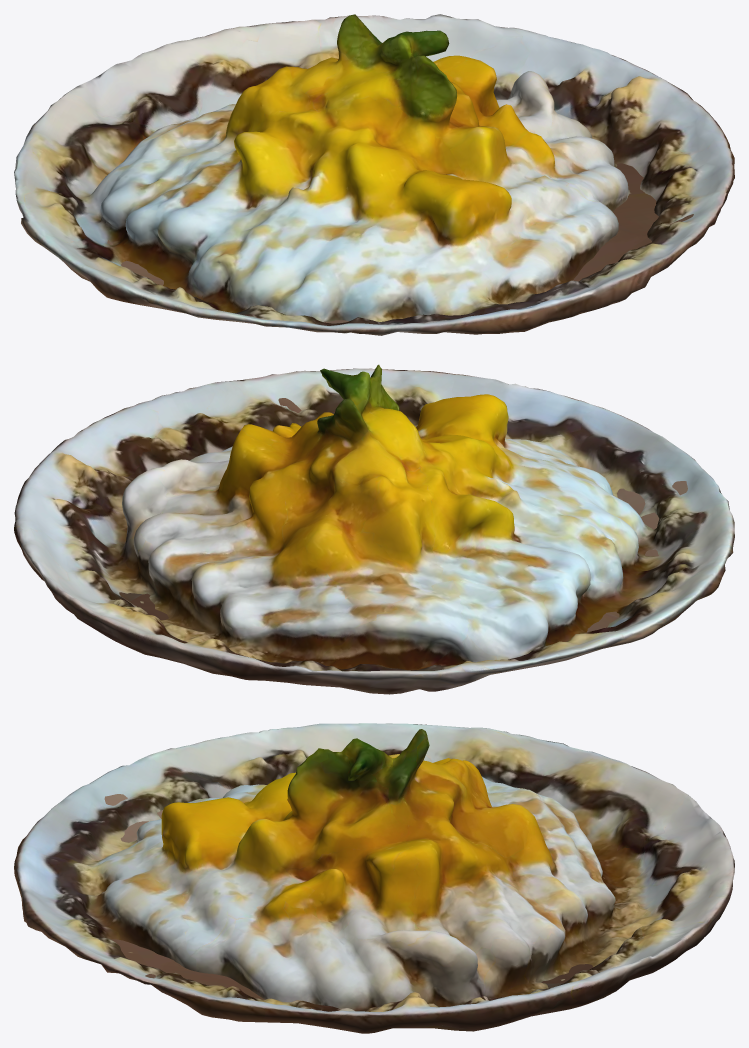
The model's file is optimized_chickenpizza.glb.
3 views of the same model, one above another, from view 1: azimuth 30°, elevation 25°; view 2: azimuth 150°, elevation 25°; view 3: azimuth 270°, elevation 25° (orthographic).
Parts seen in each view (by area): view 1: Mesh; view 2: Mesh; view 3: Mesh.
Boxes of the visible parts, x1,y1,x2,y2 form: Mesh: [14, 14, 734, 335]; Mesh: [14, 364, 734, 694]; Mesh: [14, 723, 734, 1033].
Bounding box in the file's own units: 0.1935 × 0.058 × 0.1939.
1 material, 1 textured.
